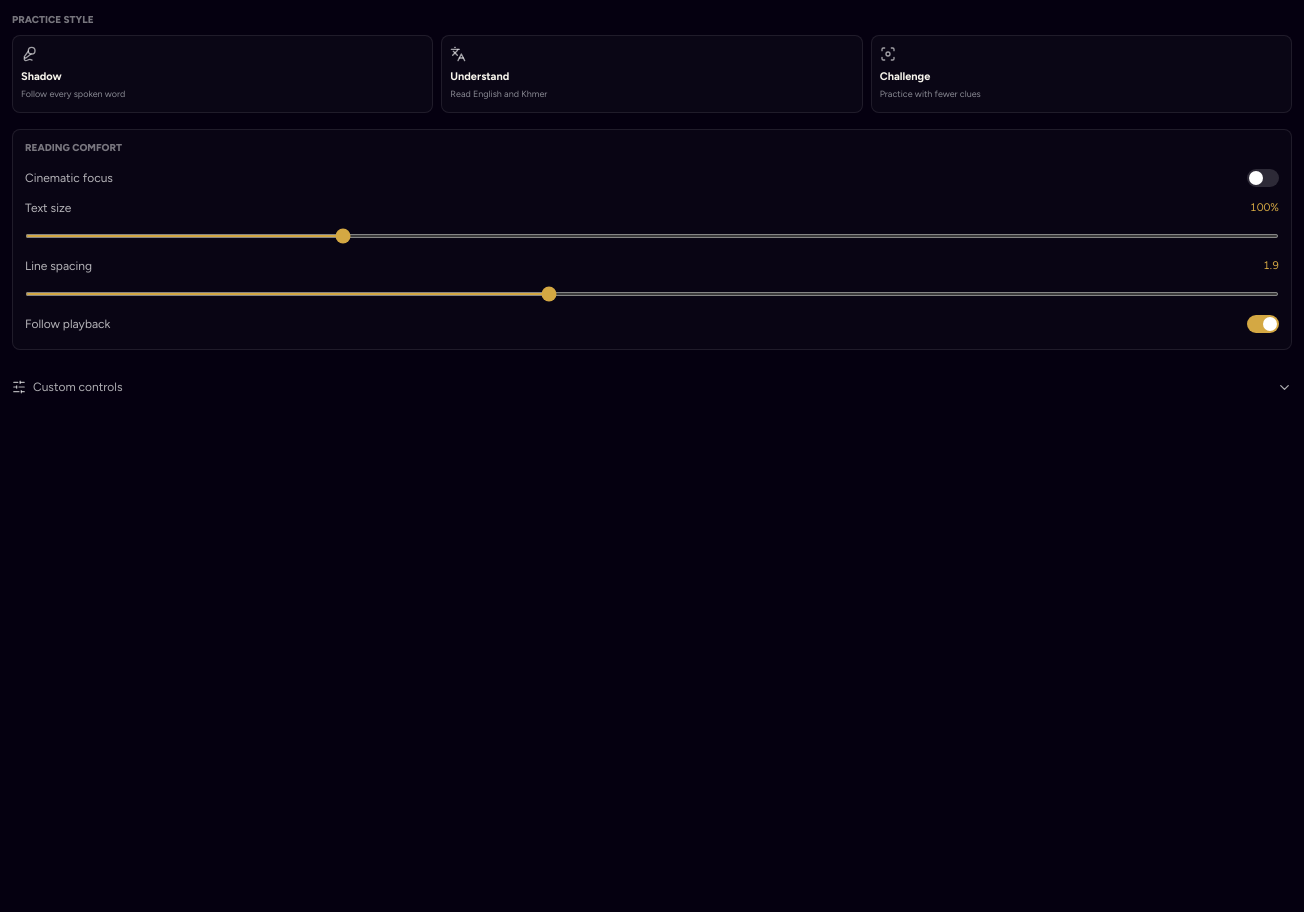
it: cinematic focus is directly discoverable and advanced controls use disclosure
The width and height of the screenshot is (1304, 912).
Check: the button with test id "tp-setting-center-focus" is shown, box [25, 163, 1279, 193]
Click the button "Custom controls". click: (78, 387)
box: [12, 366, 1292, 408]
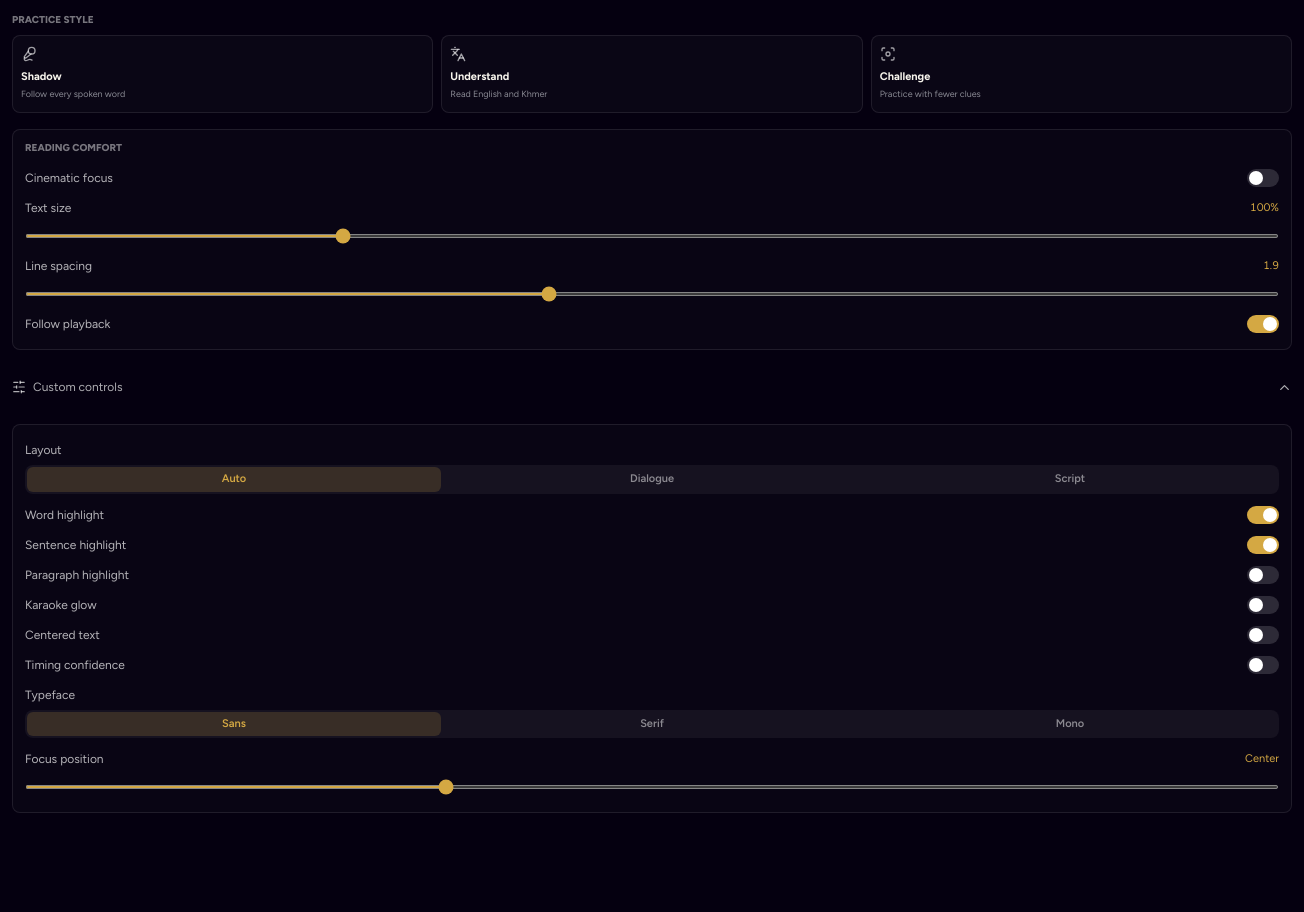
Check: the element with test id "tp-settings-advanced" is shown, box [12, 424, 1292, 813]
